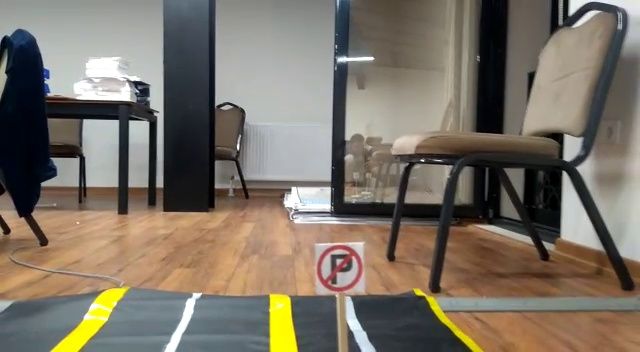park_yapilmaz: (315, 245, 366, 293)
